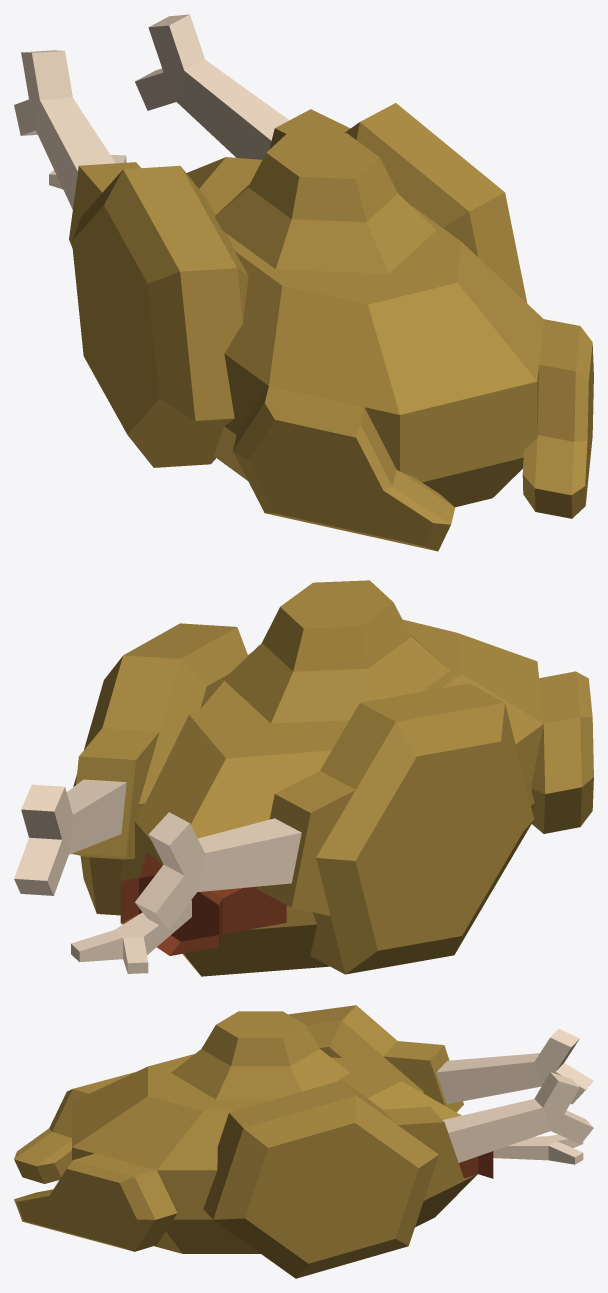
File: ducken.fbx
3 views of the same model, one above another, from view 1: azimuth 30°, elevation 25°; view 2: azimuth 150°, elevation 25°; view 3: azimuth 270°, elevation 25° (orthographic). The views are drawn at different scales.
Visible parts, largest first — view 1: mergedBlocks; view 2: mergedBlocks; view 3: mergedBlocks.
Part boxes in pixels (<box>): mergedBlocks: <box>14,14,593,551</box>; mergedBlocks: <box>14,580,593,976</box>; mergedBlocks: <box>14,1005,593,1278</box>.
Bounding box in the file's own units: 5.39 × 4.2 × 10.94.
